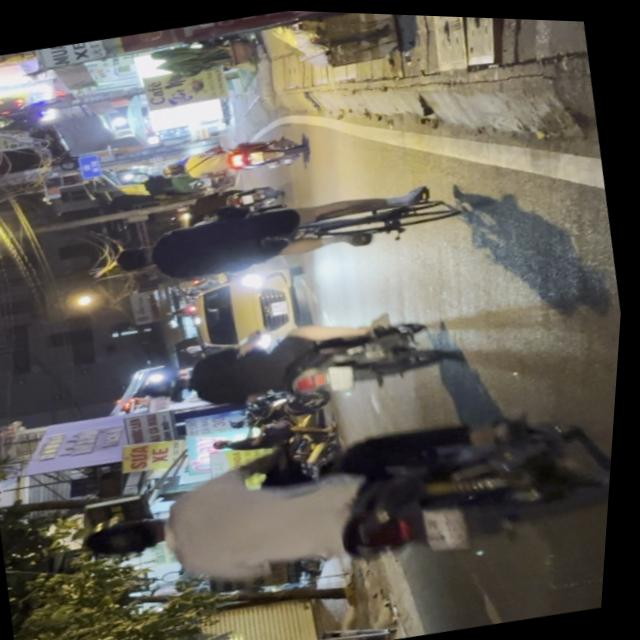helmet: (147, 366, 198, 401)
licenseplate: (71, 371, 621, 630), (132, 289, 466, 435)
motorcyclist: (85, 509, 177, 567)
nohelmet: (425, 502, 476, 552), (329, 362, 359, 392)
